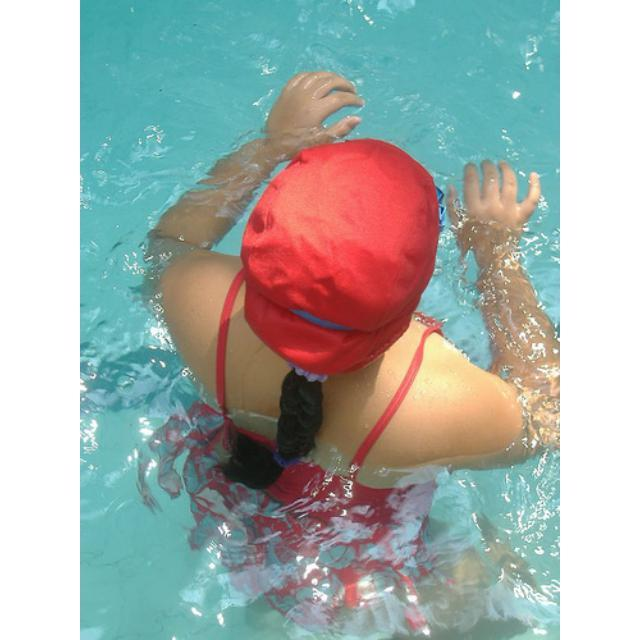human: (154, 75, 555, 556)
